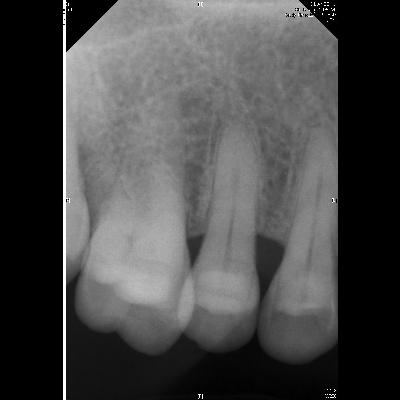tooth: (73, 59, 195, 359), (257, 125, 338, 367), (180, 117, 262, 355)
